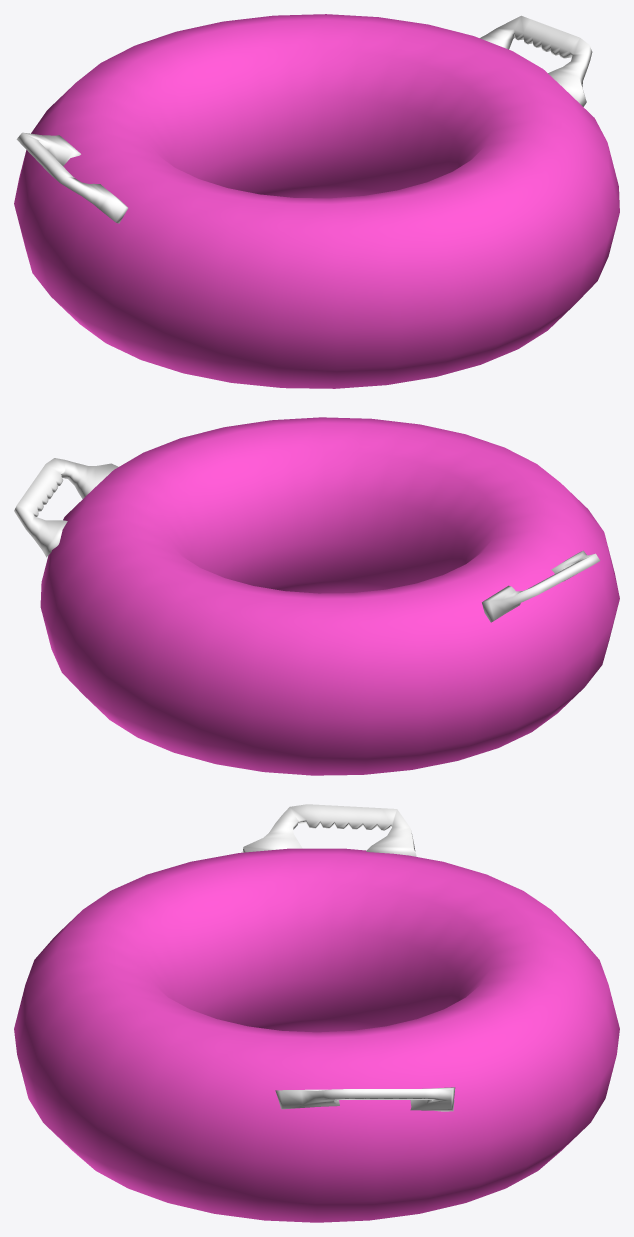
File: WorldItem_InflatableTube.fbx
3 renders of one model, top to bottom at view 1: azimuth 30°, elevation 25°; view 2: azimuth 150°, elevation 25°; view 3: azimuth 270°, elevation 25°, orthographic. The views are drawn at different scales.
Visible parts, largest first — view 1: Cube.002; view 2: Cube.002; view 3: Cube.002.
Part boxes in pixels (left/top/right/bottom): Cube.002: left=14, top=14, right=619, bottom=388; Cube.002: left=14, top=417, right=619, bottom=775; Cube.002: left=14, top=804, right=619, bottom=1222.
Size of the model in its own units: 0.4038 by 0.1332 by 0.3829.
